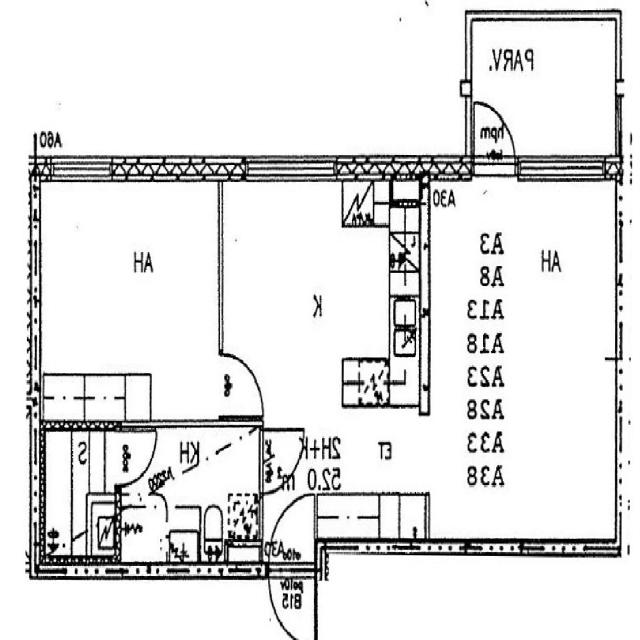door: (268, 491, 315, 579), (268, 562, 315, 640), (474, 94, 514, 180), (259, 428, 306, 494), (219, 354, 265, 416), (115, 431, 157, 485)
